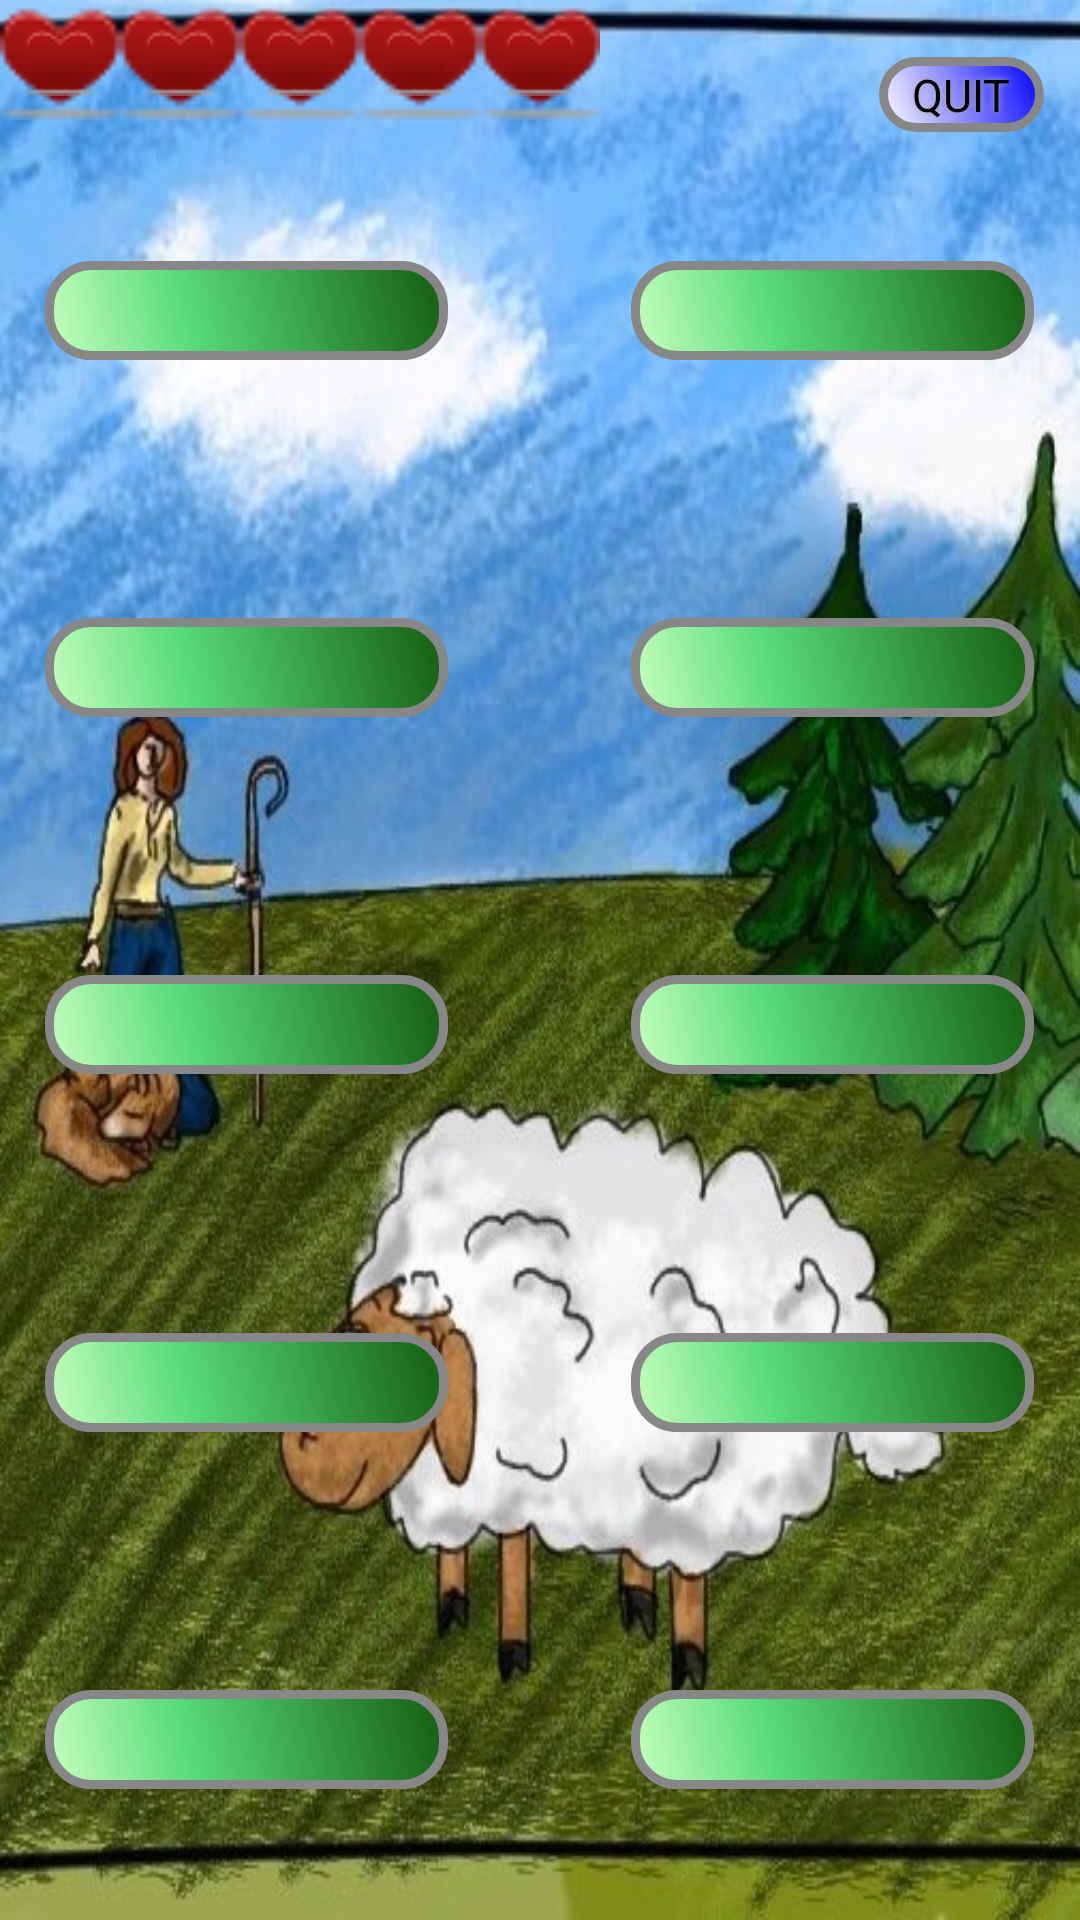

Point at icon controls on the screen. Image size 1080 × 1920, points as point (x, y).
favorites: point (60, 60), point (180, 60), point (300, 60), point (420, 60), point (540, 60)
